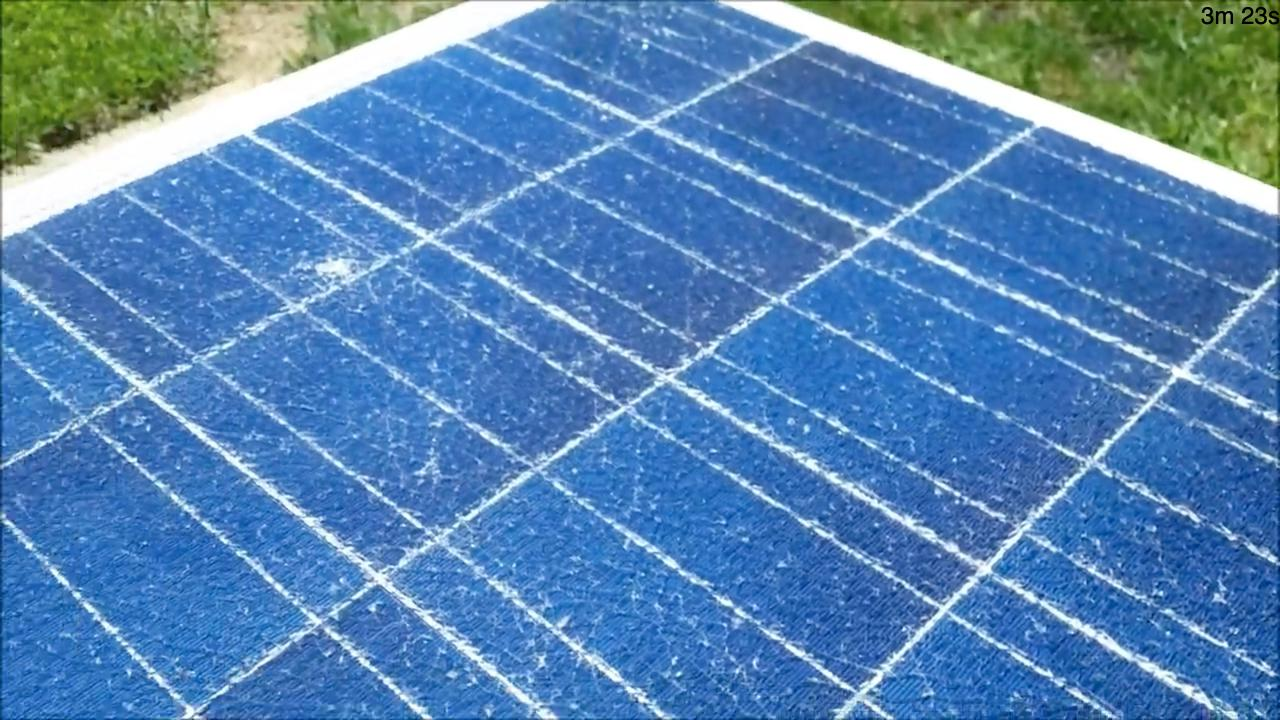Crack: (281, 244, 391, 291)
